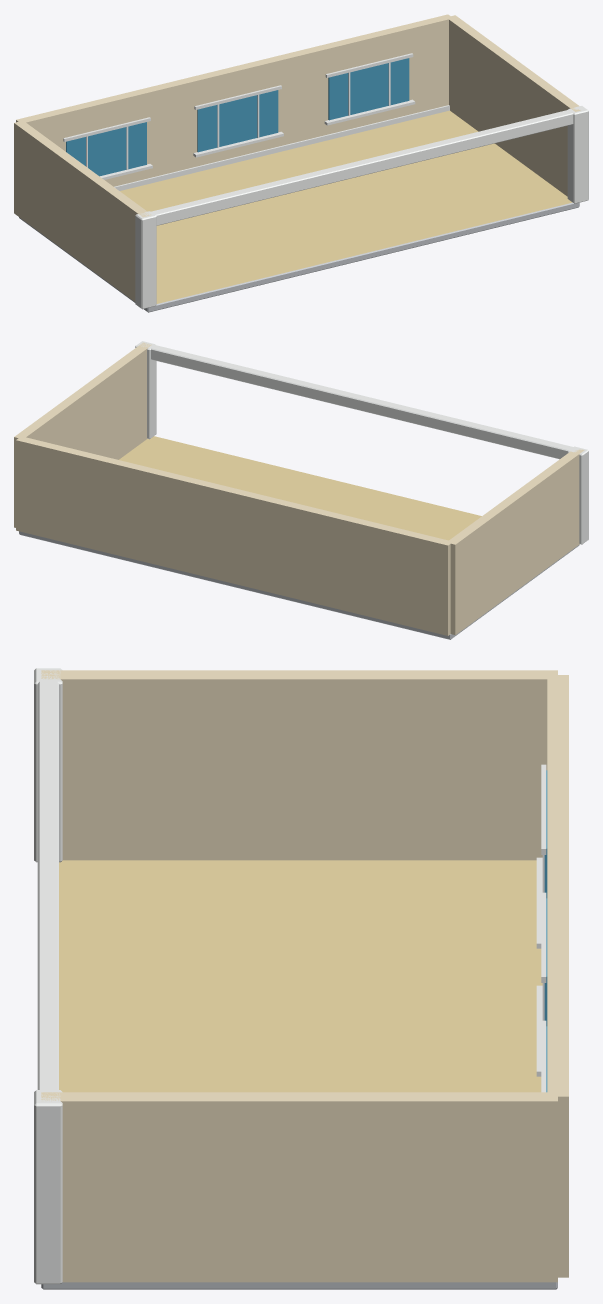
Rendered from floor_shell.fbx.
3 views of the same model, one above another, from view 1: azimuth 30°, elevation 25°; view 2: azimuth 150°, elevation 25°; view 3: azimuth 270°, elevation 25° (orthographic). The views are drawn at different scales.
Visible parts, largest first — view 1: floor_shell; view 2: floor_shell; view 3: floor_shell.
Part boxes in pixels (left/top/right/bottom): floor_shell: left=14, top=14, right=588, bottom=312; floor_shell: left=14, top=341, right=588, bottom=639; floor_shell: left=34, top=668, right=568, bottom=1289.
Size of the model in its own units: 29 by 6 by 15.
